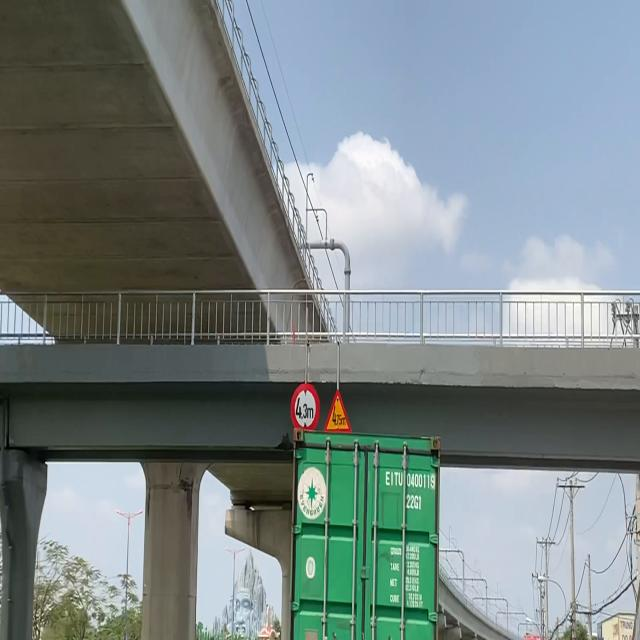Chieu cao toi da: (291, 383, 319, 429)
Nguy hiem: (322, 387, 354, 435)
